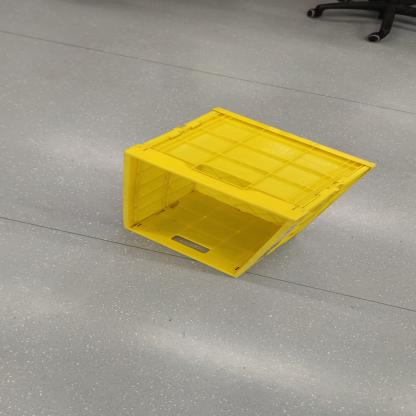box: (108, 95, 382, 303)
